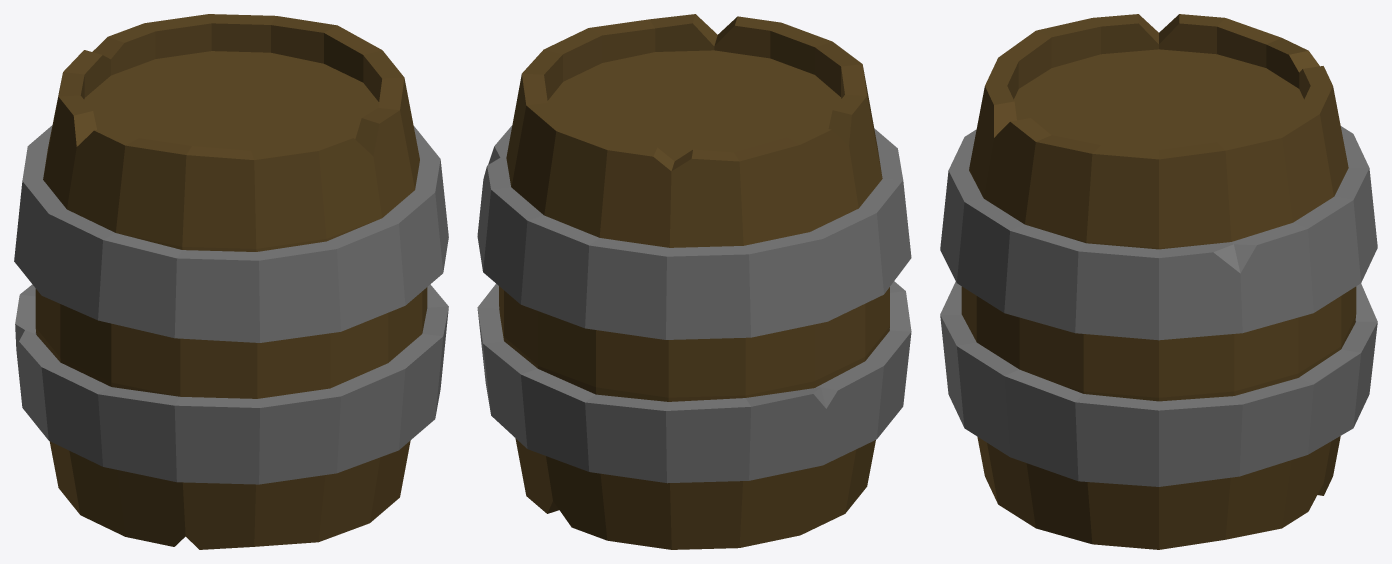
The model's file is barrel.glb.
3 renders of one model, left to right at view 1: azimuth 30°, elevation 25°; view 2: azimuth 150°, elevation 25°; view 3: azimuth 270°, elevation 25°, orthographic.
Parts seen in each view (by area): view 1: Barrel; view 2: Barrel; view 3: Barrel.
Part boxes in pixels (x1,y1,x2,y2): Barrel: (14, 14, 448, 549); Barrel: (477, 14, 911, 549); Barrel: (940, 14, 1377, 549).
Bounding box in the file's own units: 0.7251 × 0.7197 × 0.7251.
